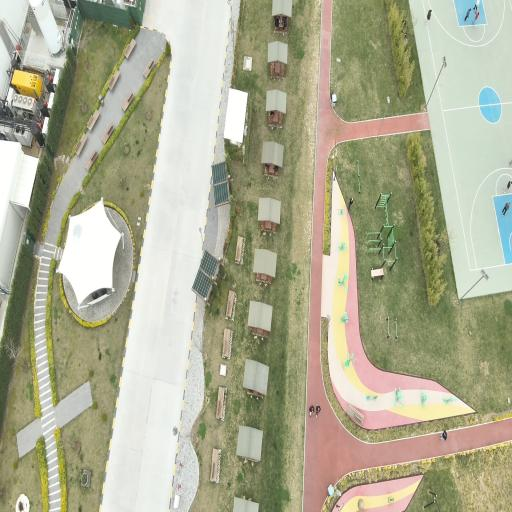person: (502, 202, 510, 216), (472, 9, 479, 24), (464, 8, 471, 22), (504, 181, 511, 193), (440, 430, 447, 440), (348, 197, 353, 211), (474, 0, 480, 11), (426, 10, 431, 23), (316, 405, 321, 417), (309, 405, 314, 417)
